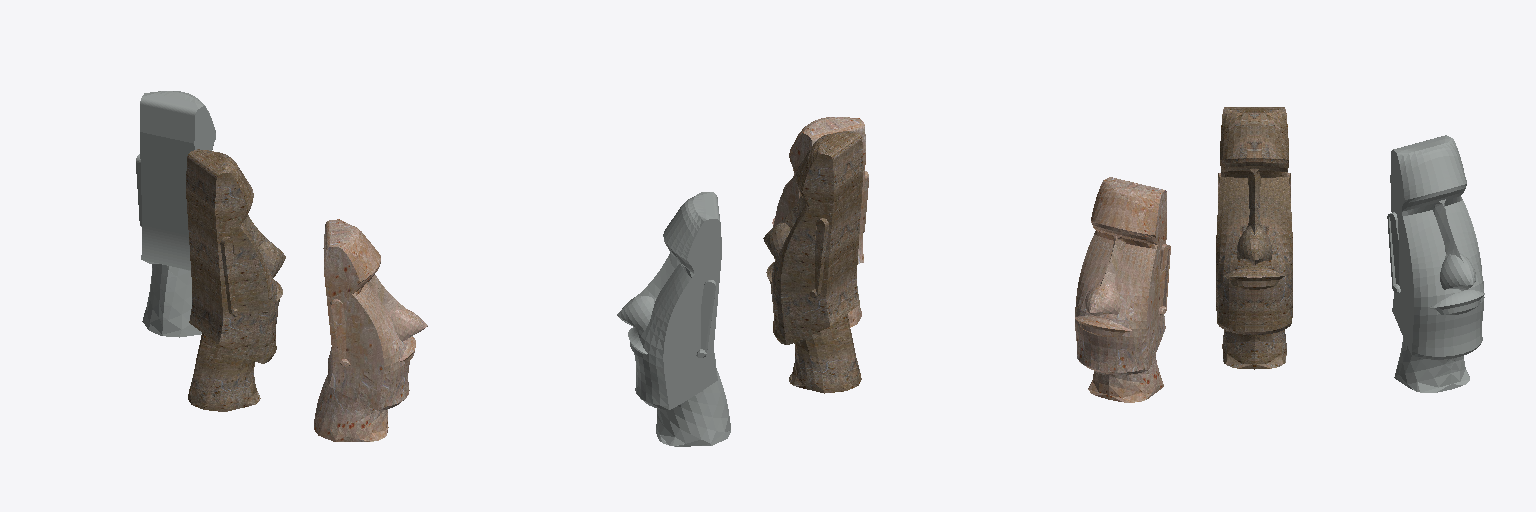
The picture shows the model from 3 angles: view 1: azimuth 30°, elevation 25°; view 2: azimuth 150°, elevation 25°; view 3: azimuth 270°, elevation 25°; orthographic projection.
Parts seen in each view (by area): view 1: Mesh3 Group_7_1 Group2 Moai_Statues1 Model, Mesh2 Group_3_2 Group1 Moai_Statues1 Model, Mesh6 Group_6_2 Group3 Moai_Statues1 Model, Mesh5 Group_6_1 Group3 Moai_Statues1 Model, Mesh4 Group_7_2 Group2 Moai_Statues1 Model, Mesh1 Group_3_1 Group1 Moai_Statues1 Model; view 2: Mesh5 Group_6_1 Group3 Moai_Statues1 Model, Mesh4 Group_7_2 Group2 Moai_Statues1 Model, Mesh3 Group_7_1 Group2 Moai_Statues1 Model, Mesh1 Group_3_1 Group1 Moai_Statues1 Model, Mesh2 Group_3_2 Group1 Moai_Statues1 Model; view 3: Mesh6 Group_6_2 Group3 Moai_Statues1 Model, Mesh1 Group_3_1 Group1 Moai_Statues1 Model, Mesh3 Group_7_1 Group2 Moai_Statues1 Model, Mesh4 Group_7_2 Group2 Moai_Statues1 Model, Mesh5 Group_6_1 Group3 Moai_Statues1 Model, Mesh2 Group_3_2 Group1 Moai_Statues1 Model.
Boxes of the visible parts, <box> form: Mesh3 Group_7_1 Group2 Moai_Statues1 Model: <box>192,156,285,411</box>; Mesh2 Group_3_2 Group1 Moai_Statues1 Model: <box>314,231,427,441</box>; Mesh6 Group_6_2 Group3 Moai_Statues1 Model: <box>162,92,215,337</box>; Mesh5 Group_6_1 Group3 Moai_Statues1 Model: <box>136,91,180,335</box>; Mesh4 Group_7_2 Group2 Moai_Statues1 Model: <box>186,149,274,404</box>; Mesh1 Group_3_1 Group1 Moai_Statues1 Model: <box>323,219,421,371</box>; Mesh5 Group_6_1 Group3 Moai_Statues1 Model: <box>617,203,730,446</box>; Mesh4 Group_7_2 Group2 Moai_Statues1 Model: <box>763,137,857,393</box>; Mesh3 Group_7_1 Group2 Moai_Statues1 Model: <box>822,131,863,385</box>; Mesh1 Group_3_1 Group1 Moai_Statues1 Model: <box>772,118,837,260</box>; Mesh2 Group_3_2 Group1 Moai_Statues1 Model: <box>824,117,868,327</box>; Mesh6 Group_6_2 Group3 Moai_Statues1 Model: <box>1387,143,1472,392</box>; Mesh1 Group_3_1 Group1 Moai_Statues1 Model: <box>1090,184,1170,402</box>; Mesh3 Group_7_1 Group2 Moai_Statues1 Model: <box>1216,107,1254,369</box>; Mesh4 Group_7_2 Group2 Moai_Statues1 Model: <box>1255,107,1292,368</box>; Mesh5 Group_6_1 Group3 Moai_Statues1 Model: <box>1419,135,1484,389</box>; Mesh2 Group_3_2 Group1 Moai_Statues1 Model: <box>1075,177,1137,399</box>.
Bounding box in the file's own units: 124 × 187 × 288.
3 materials, 2 textured.